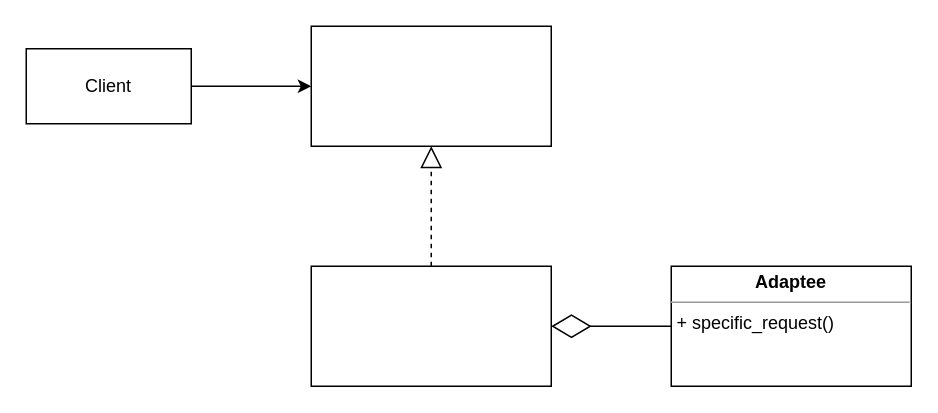
The diagram is 938 pixels wide and 413 high, and some of its shapes have lost their labels. Each missing label, with the box of its shape:
<<Interface>> Target + virtual request() = 0: (310, 25, 551, 146)
Adapter + adaptee : Adaptee + request(): (310, 265, 551, 386)
